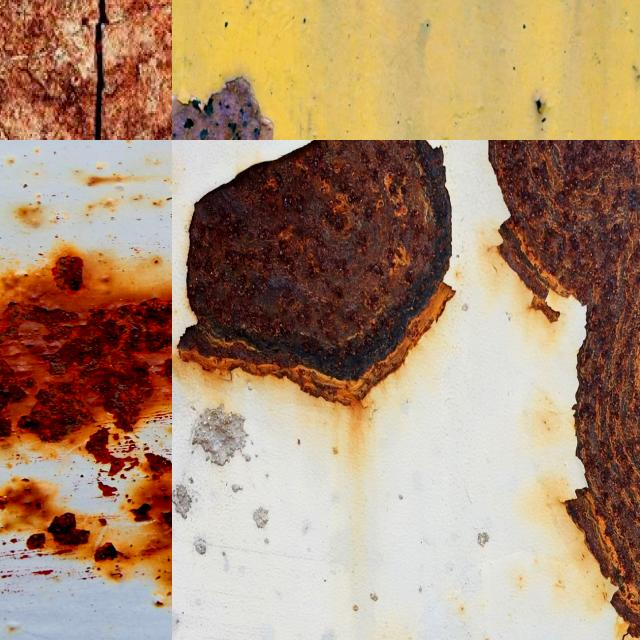Crack: (91, 0, 108, 140)
Pitting Corrosion: (488, 140, 640, 638), (177, 140, 454, 404), (0, 446, 172, 597), (0, 298, 172, 442), (86, 428, 124, 475), (52, 255, 83, 291)
